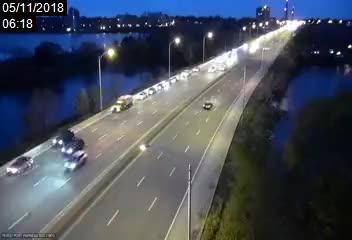personal_car: (7, 154, 34, 175), (64, 149, 88, 171), (62, 135, 85, 153), (52, 128, 73, 144), (201, 101, 212, 112), (155, 81, 166, 91), (136, 90, 146, 100), (176, 73, 187, 82), (165, 78, 177, 85), (146, 87, 156, 94)
truck: (111, 93, 132, 113)
